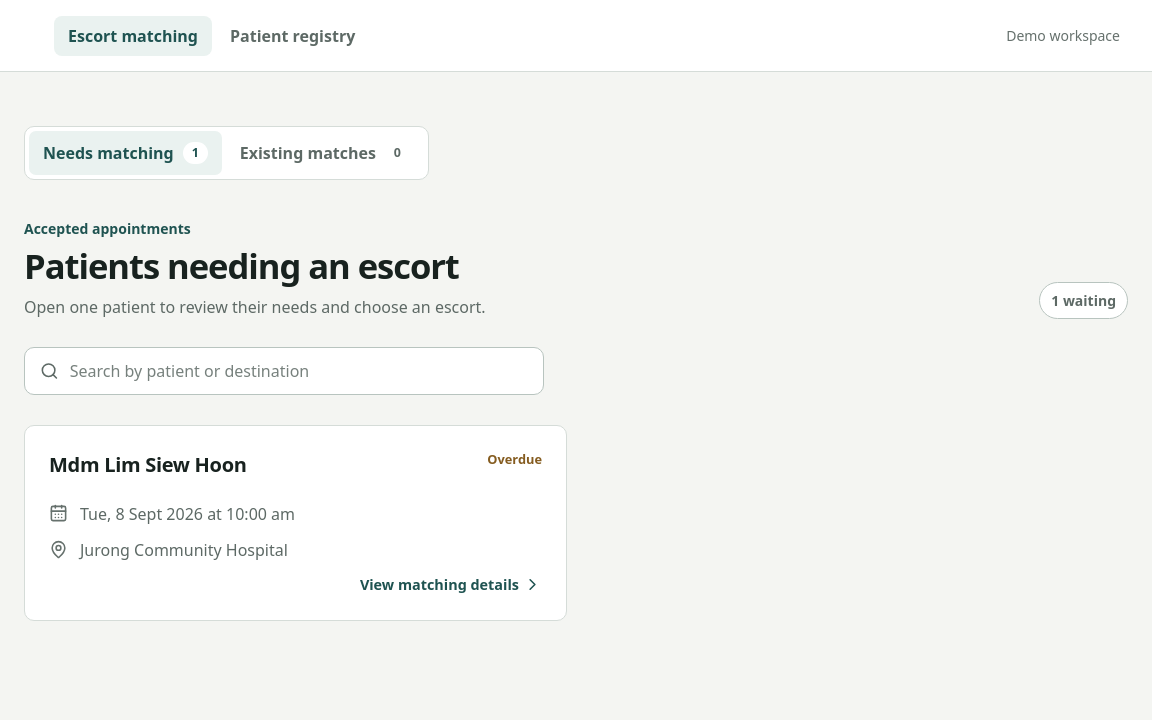
Test: MatchingWorkspace › keeps selection and confirmation as separate actions
This screenshot has width=1152, height=720.
What coordinates should you click on to do the following:
click the button "Mdm Lim Siew Hoon"
I would click on:
 (296, 523)
Its box is [24,425,567,621].
(page scrolled)
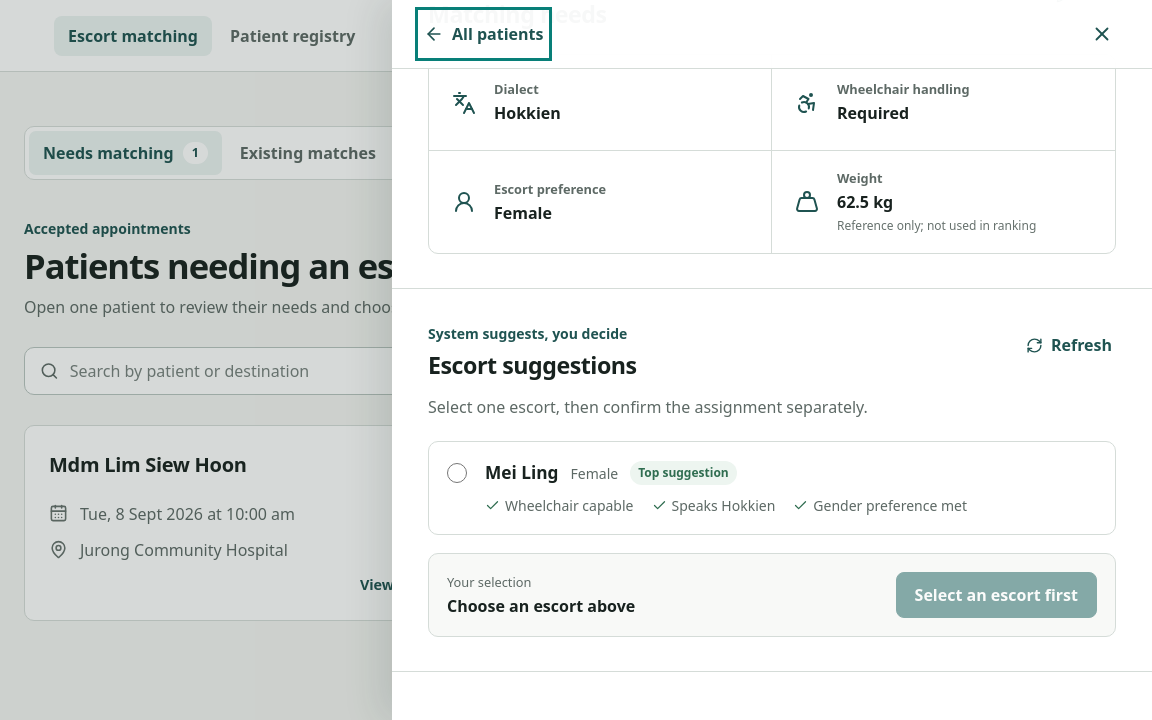
Check: the button "Select an escort first" is disabled, box [896,572,1097,618]
What coordinates should you click on to do the following:
click the radio button labelled "Mei Ling"
I would click on:
 (457, 473)
Its box is [447,463,467,483].
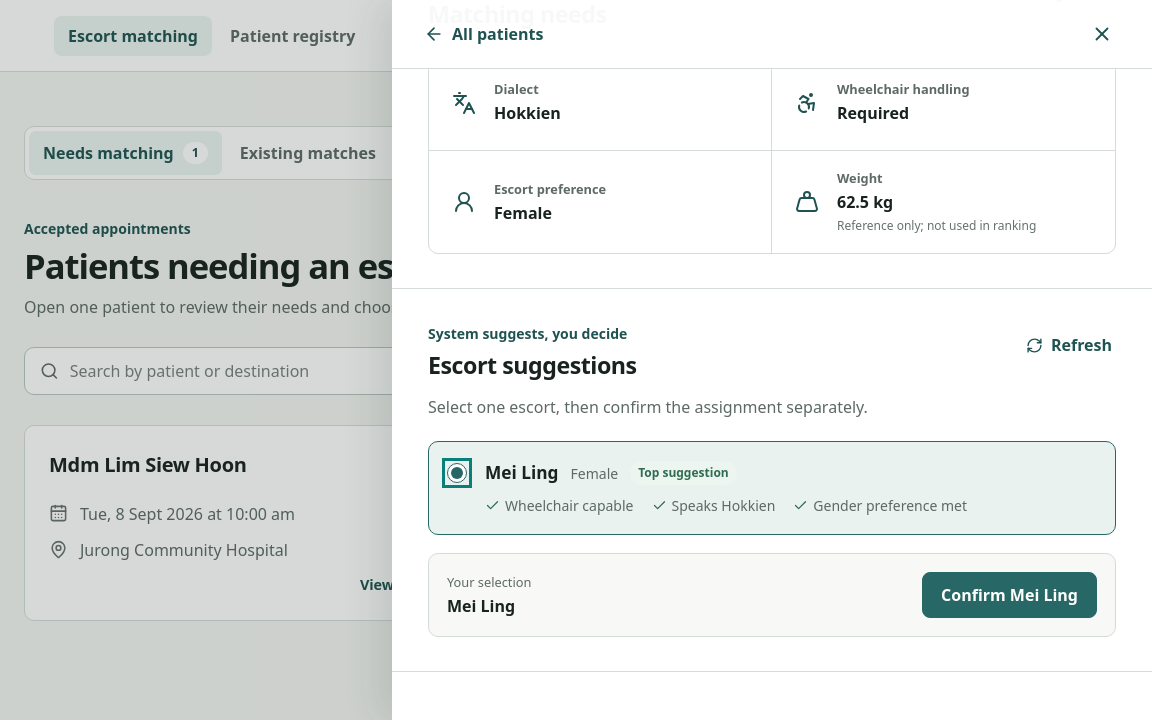
What coordinates should you click on to do the following:
click the button "Confirm Mei Ling"
I would click on:
 (1010, 595)
Its box is [922,572,1097,618].
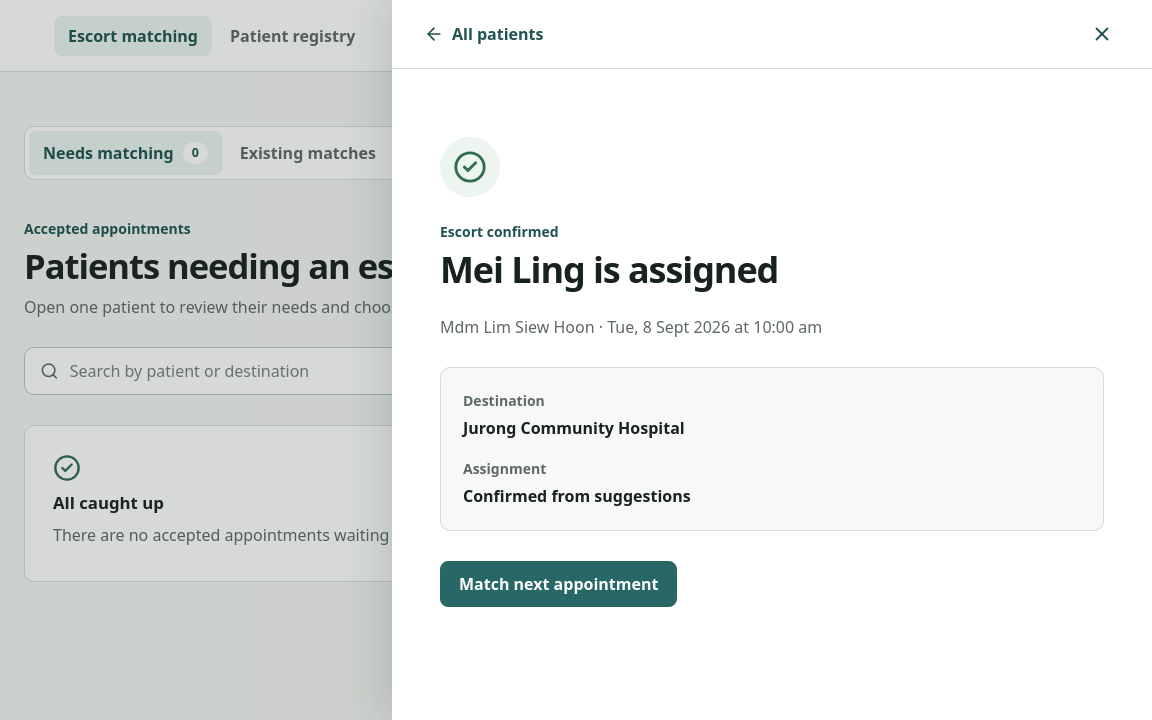
Check: the heading "Mei Ling is assigned" is shown, box [440,245,778,294]
What coordinates should you click on to do the following:
click the button "Match next appointment"
I would click on:
 (559, 584)
Its box is [440,562,677,608].
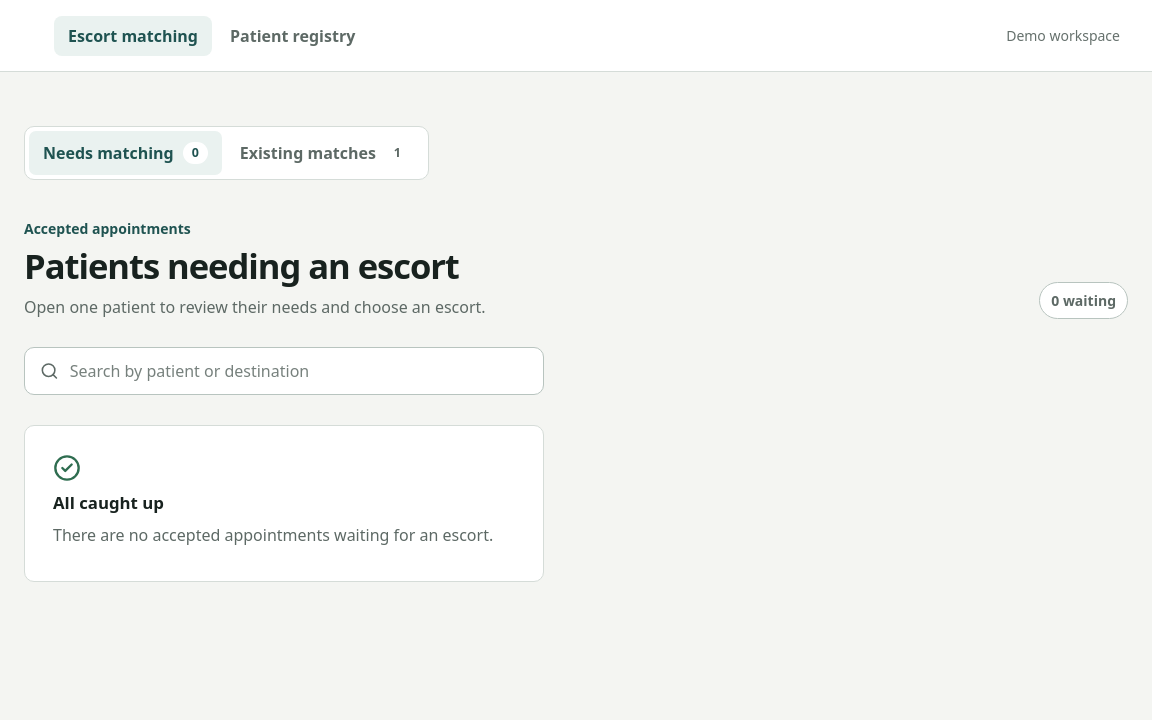
Check: the text "Mdm Lim Siew Hoon" is gone
